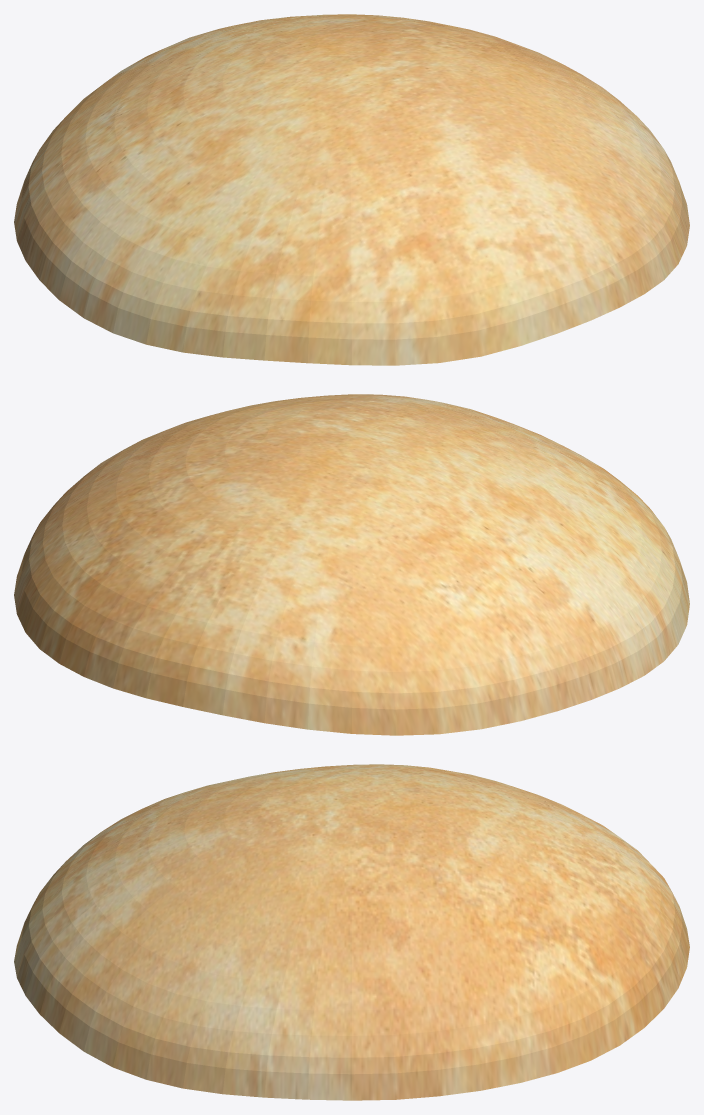
Rendered from TopBread.fbx.
3 renders of one model, top to bottom at view 1: azimuth 30°, elevation 25°; view 2: azimuth 150°, elevation 25°; view 3: azimuth 270°, elevation 25°, orthographic.
Visible parts, largest first — view 1: top; view 2: top; view 3: top.
Boxes of the visible parts, x1,y1,x2,y2 form: top: [14, 14, 689, 365]; top: [14, 394, 689, 735]; top: [14, 764, 689, 1100].
Bounding box in the file's own units: 0.0991 × 0.0272 × 0.0991.
